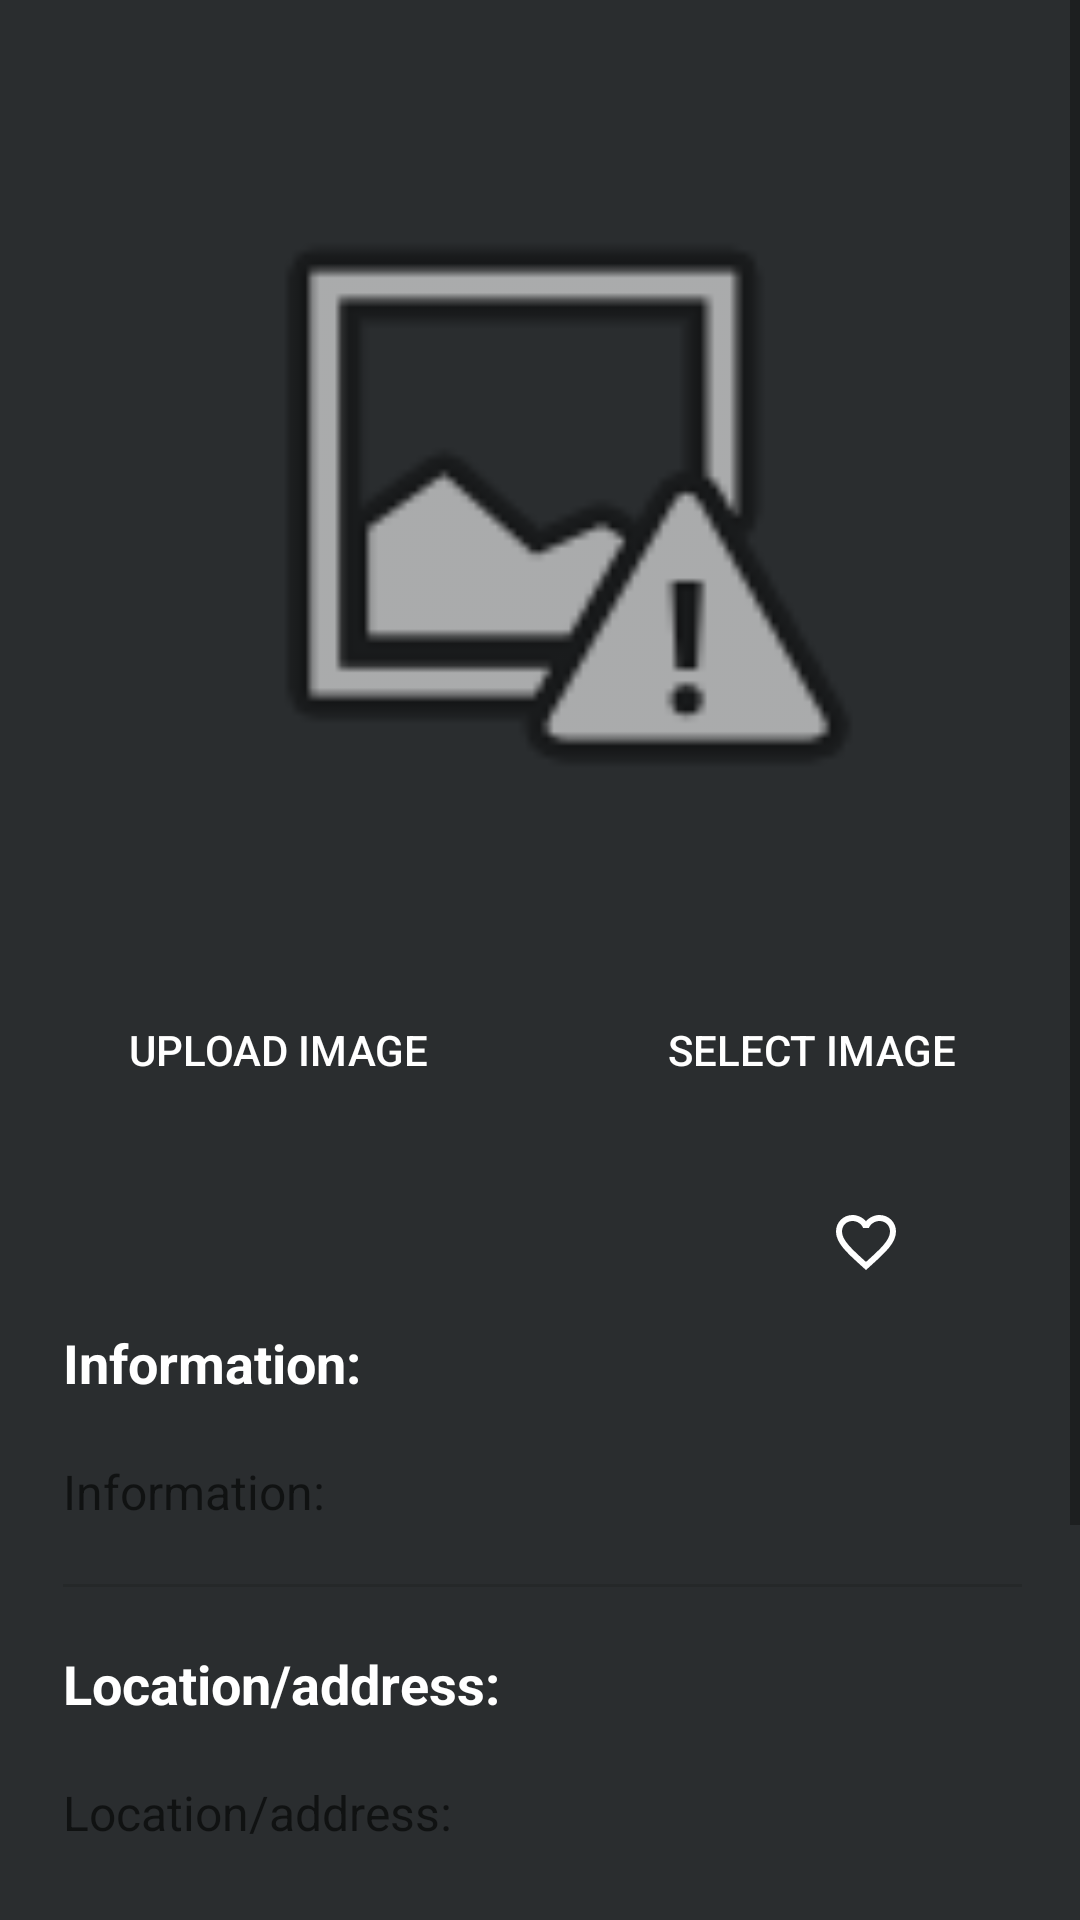

Icons on this 1080×1920 Android screen, each with the point to tap as [x,y]:
wishlist: [866,1242]
